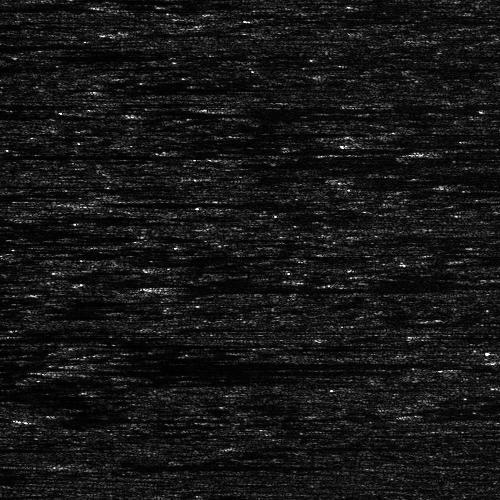object: (3, 195, 190, 208), (23, 362, 106, 379), (131, 283, 204, 292), (44, 358, 117, 367), (0, 414, 58, 423), (385, 494, 438, 500), (347, 131, 410, 136), (472, 75, 500, 84), (320, 140, 361, 145), (336, 176, 377, 181), (81, 461, 102, 464), (482, 275, 500, 278)
shadow: (65, 362, 373, 379), (80, 358, 452, 367), (168, 283, 494, 292), (96, 195, 293, 208), (0, 148, 213, 157), (26, 414, 207, 423), (0, 39, 116, 48), (340, 140, 500, 145), (0, 0, 91, 8), (357, 176, 500, 181), (325, 282, 460, 287), (379, 131, 500, 136), (91, 461, 272, 464), (412, 494, 500, 500), (0, 336, 88, 341)
